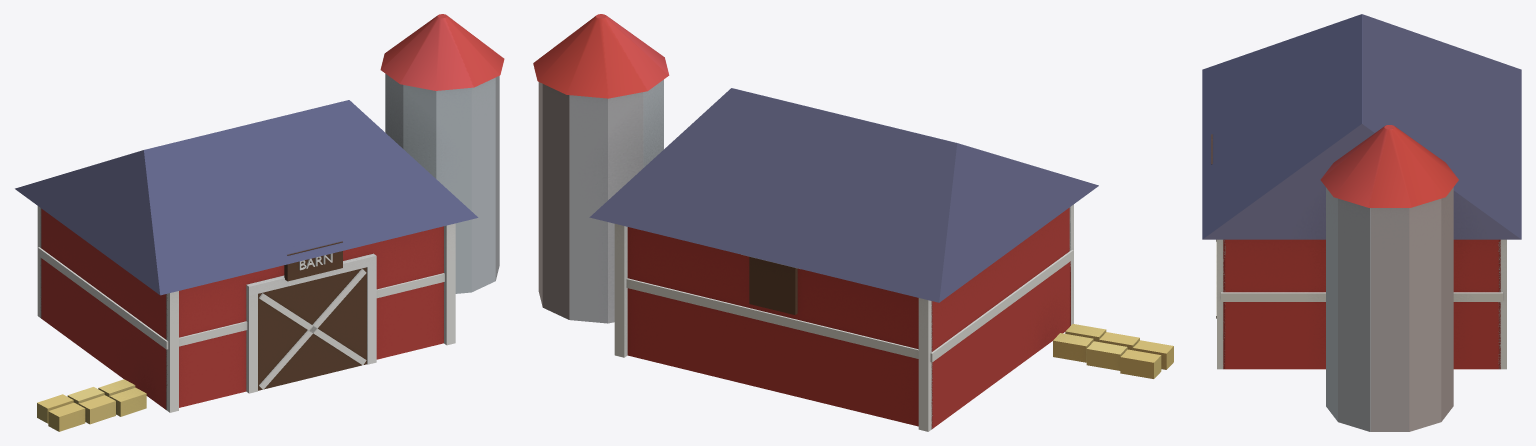
File: home_barn_2.fbx
The picture shows the model from 3 angles, left to right: view 1: azimuth 30°, elevation 25°; view 2: azimuth 150°, elevation 25°; view 3: azimuth 270°, elevation 25°; orthographic projection. The views are drawn at different scales.
Visible parts, largest first — view 1: home_barn_2_body; view 2: home_barn_2_body; view 3: home_barn_2_body.
Part boxes in pixels (x1,y1,x2,y2): home_barn_2_body: (15, 14, 504, 431); home_barn_2_body: (533, 14, 1173, 431); home_barn_2_body: (1202, 14, 1521, 431).
Bounding box in the file's own units: 4614 × 2220 × 2300.
Materials: 1 (1 with a texture image).
